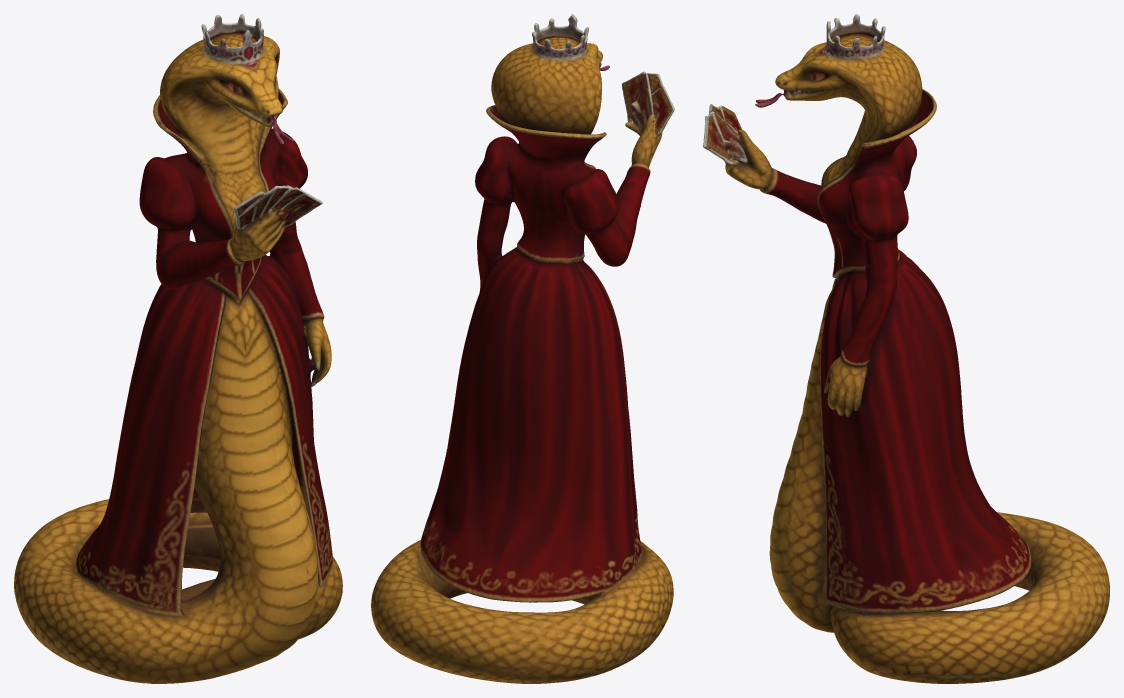
The model's file is dama_detailed.glb.
The picture shows the model from 3 angles, left to right: view 1: azimuth 30°, elevation 25°; view 2: azimuth 150°, elevation 25°; view 3: azimuth 270°, elevation 25°; orthographic projection. The views are drawn at different scales.
Visible parts, largest first — view 1: mesh_node; view 2: mesh_node; view 3: mesh_node.
Part boxes in pixels (x1,y1,x2,y2): mesh_node: [14, 14, 342, 683]; mesh_node: [371, 14, 674, 683]; mesh_node: [703, 14, 1109, 683].
Size of the model in its own units: 0.882 by 1.9 by 1.16.
1 material, 1 textured.
